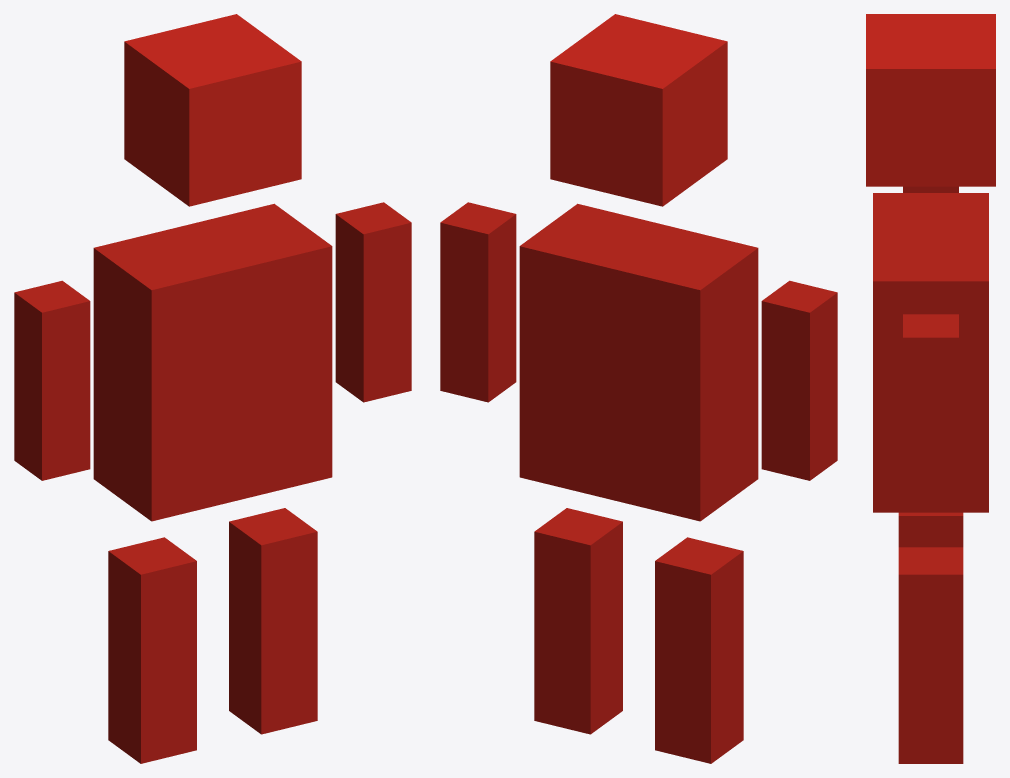
File: tribunal_enemy.obj
3 views of the same model, side by side, from view 1: azimuth 30°, elevation 25°; view 2: azimuth 150°, elevation 25°; view 3: azimuth 270°, elevation 25° (orthographic).
Visible parts, largest first — view 1: torso, head, leg_r, leg_l, arm_r, arm_l; view 2: torso, head, leg_r, leg_l, arm_r, arm_l; view 3: torso, head, leg_r, arm_r, leg_l, arm_l.
Part boxes in pixels (x1,y1,x2,y2): torso: (93, 203, 332, 521); head: (124, 14, 301, 206); leg_r: (229, 508, 317, 734); leg_l: (108, 537, 196, 763); arm_r: (335, 202, 411, 402); arm_l: (14, 280, 90, 480); torso: (519, 203, 758, 521); head: (550, 14, 727, 206); leg_r: (534, 508, 622, 734); leg_l: (655, 537, 743, 763); arm_r: (440, 202, 516, 402); arm_l: (761, 280, 837, 480); torso: (873, 193, 988, 512); head: (866, 14, 995, 186); leg_r: (898, 547, 963, 763); arm_r: (903, 314, 958, 505); leg_l: (898, 512, 963, 547); arm_l: (903, 186, 958, 192).
Size of the model in its own units: 0.92 by 1.62 by 0.28.
